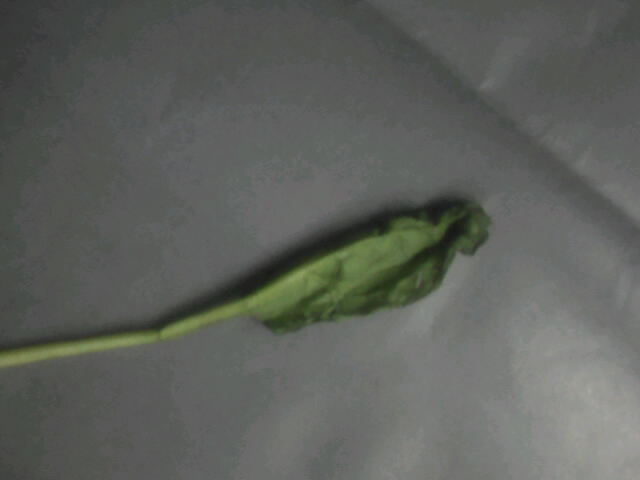yellow: (165, 182, 495, 343)
